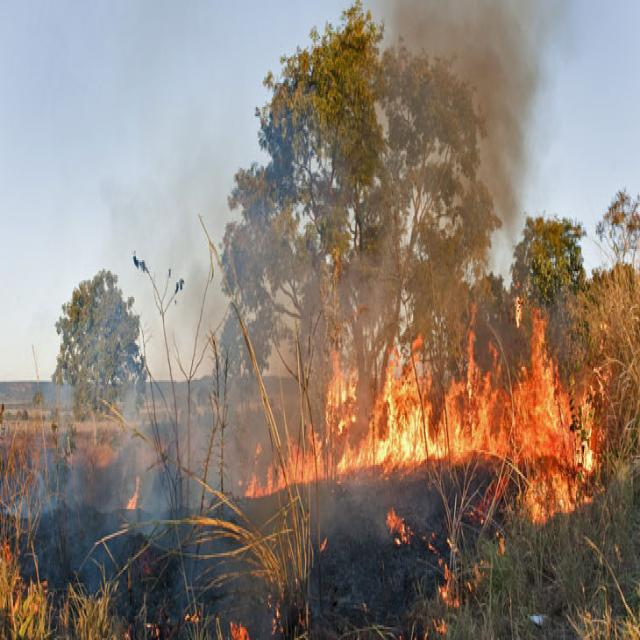fire: (382, 372, 555, 460)
